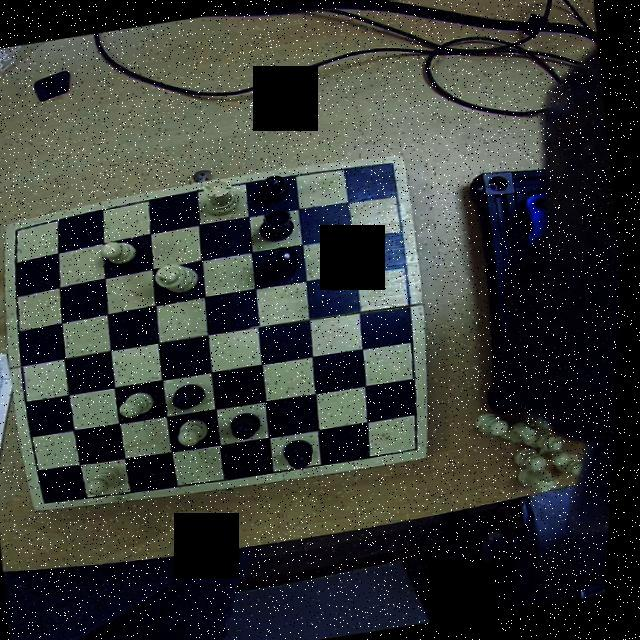chess-table-corners: (378, 154, 406, 178), (37, 490, 68, 510), (408, 434, 434, 456), (7, 222, 30, 243)
